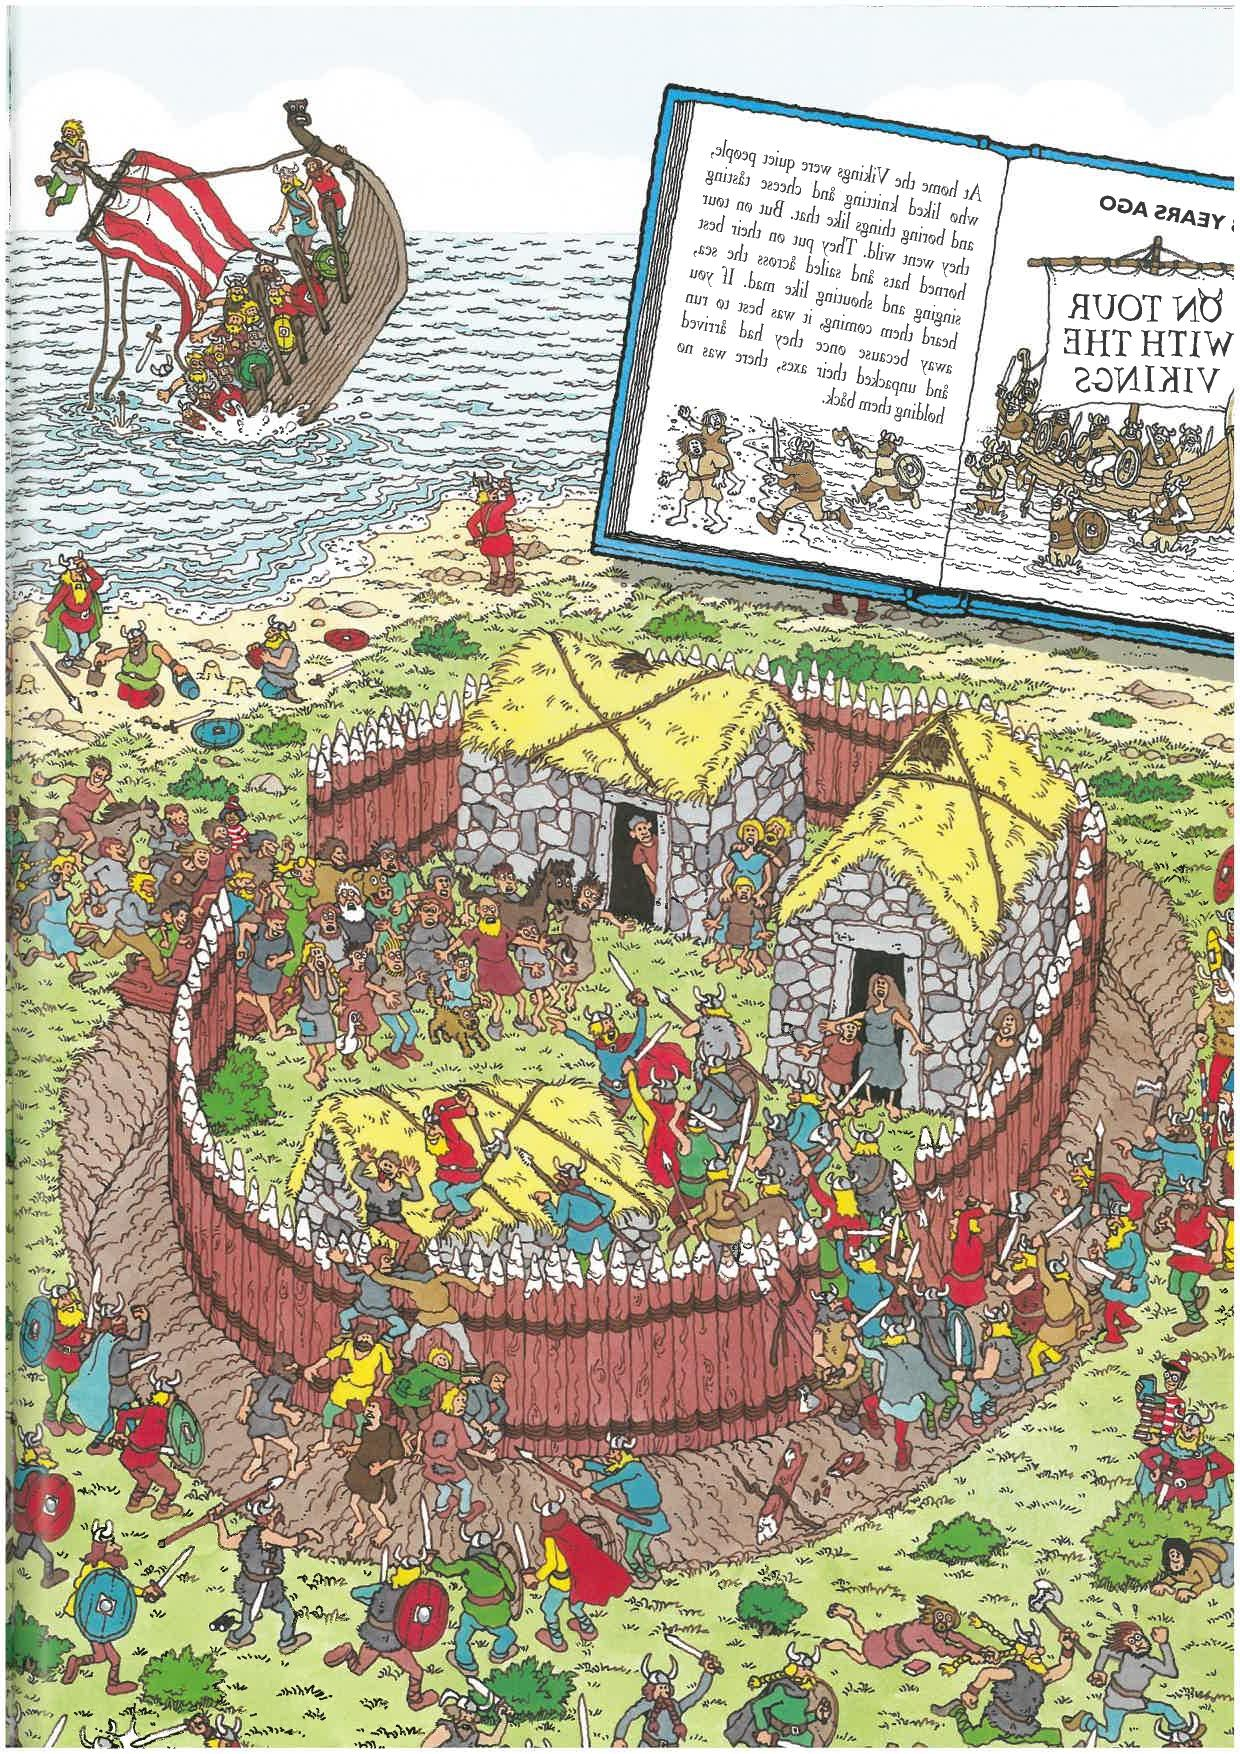waldos: (1134, 1347, 1193, 1448)
